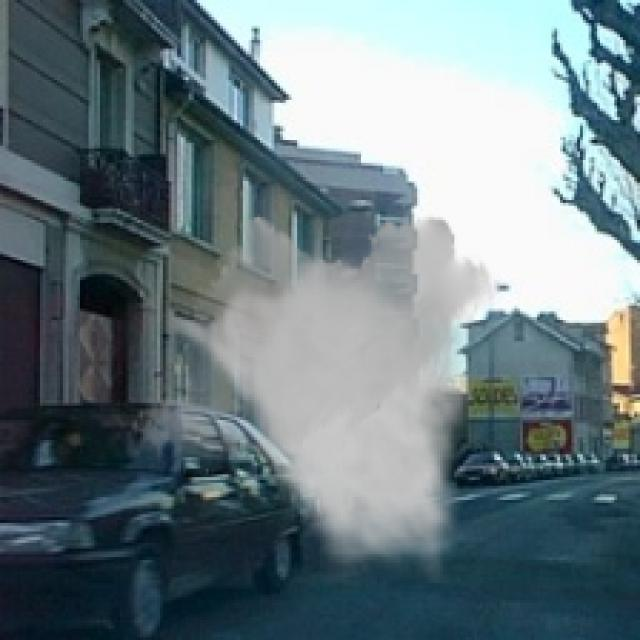smoke: (128, 206, 503, 583)
